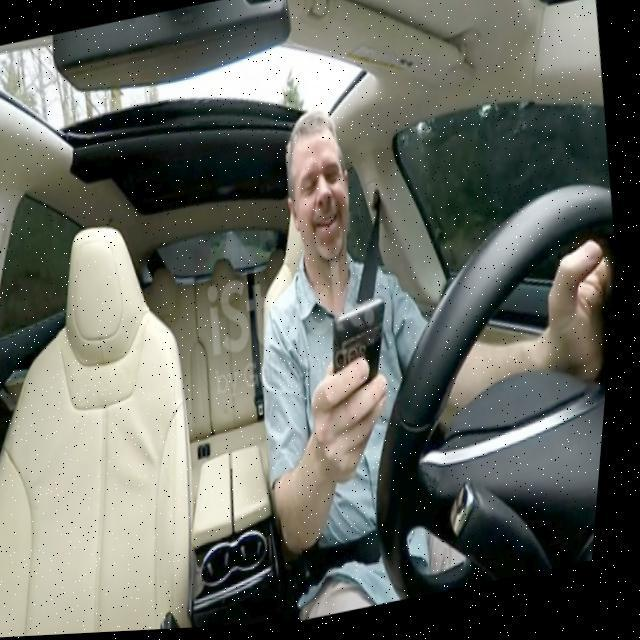PhoneCall: (326, 296, 404, 415)
